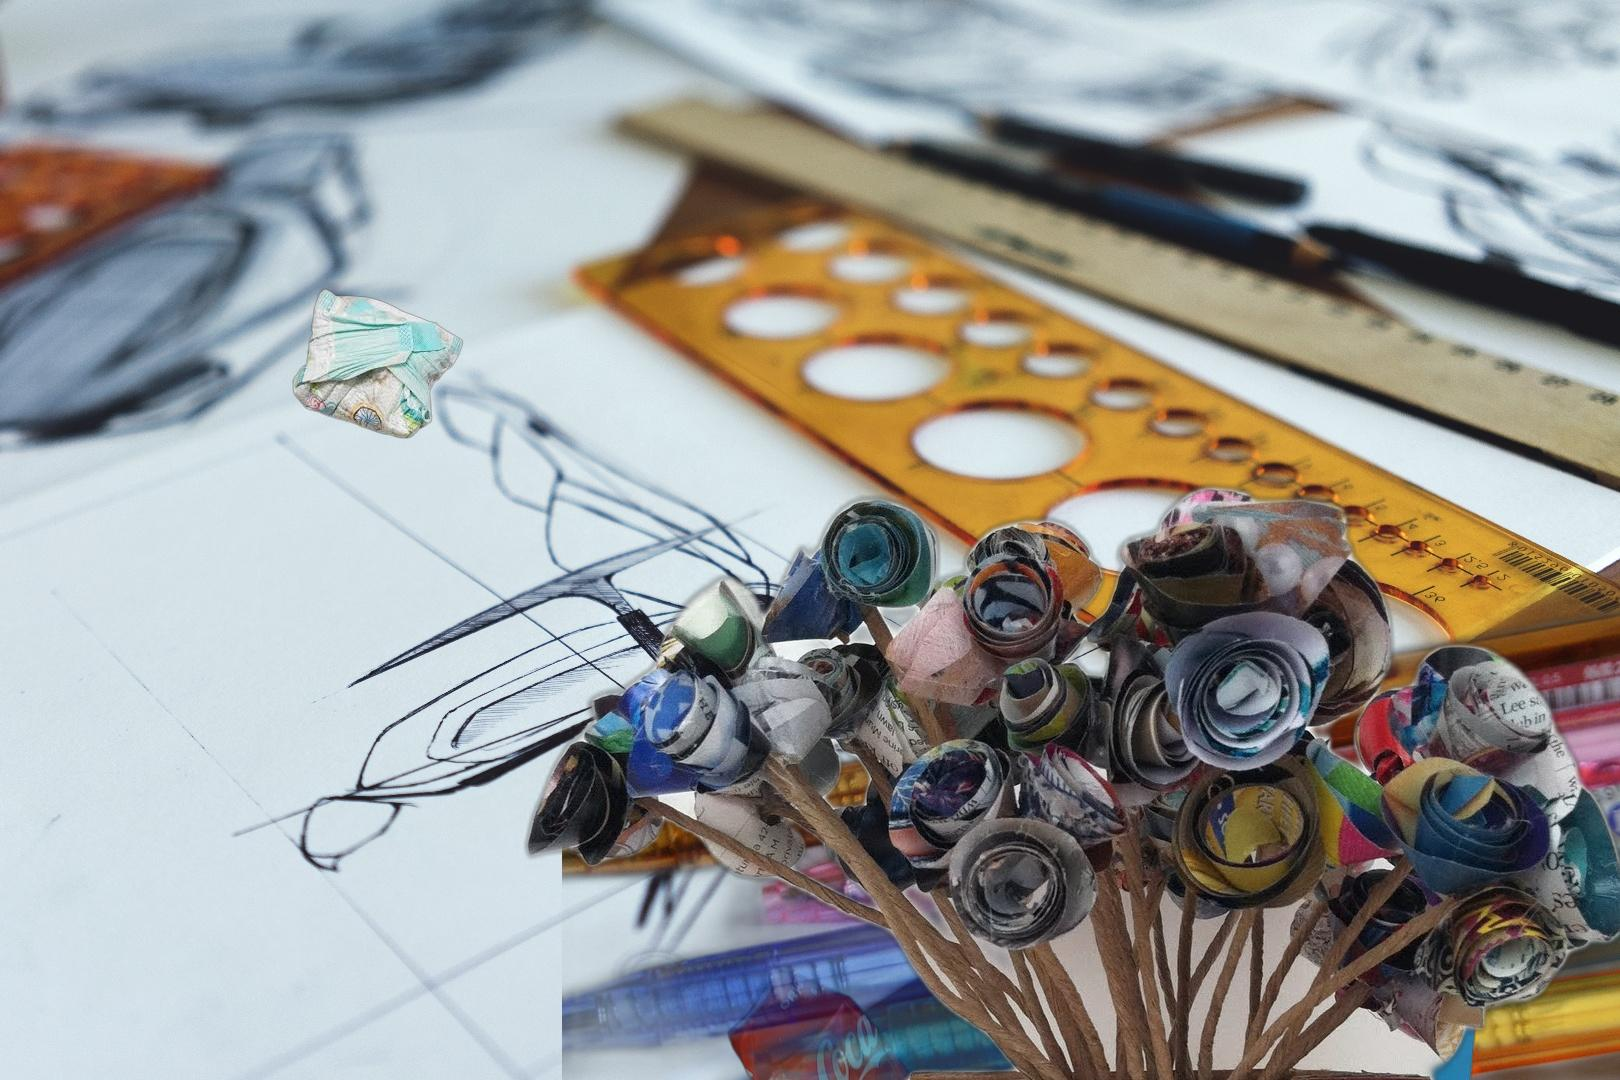metal-cans: (723, 962, 943, 1080)
penholder: (562, 481, 1620, 1080)
trash: (290, 286, 466, 441)
trashbox-cardboard: (516, 471, 1620, 1080), (1327, 977, 1551, 1080)
